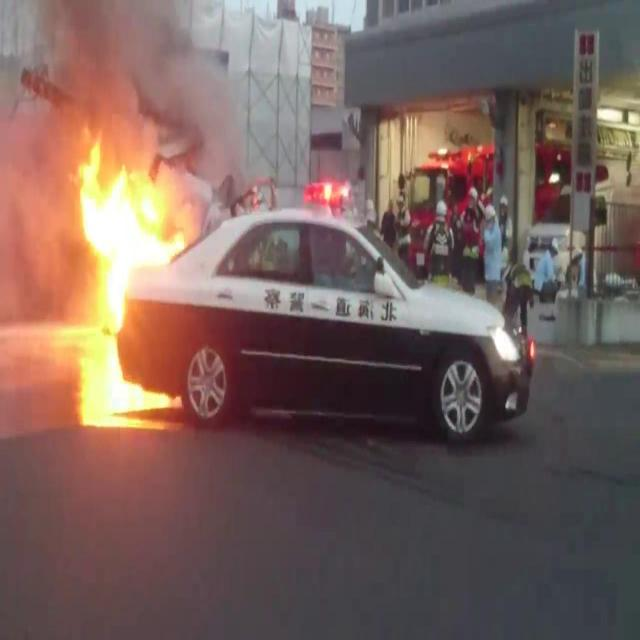fire: (70, 140, 220, 428)
